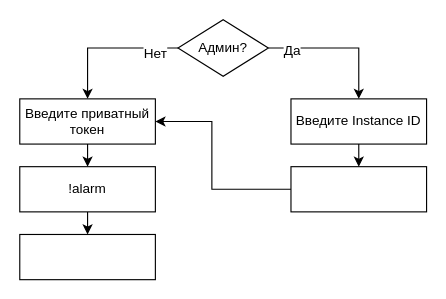
This 446x299 diagram has some shape labels left out. The shapes that lost their labels are listed below. From the top down, each one's centre as x and y in pixels, then its label:
the point at 358,189: Сгенерировать приватный токен
the point at 87,256: Подтверждение
